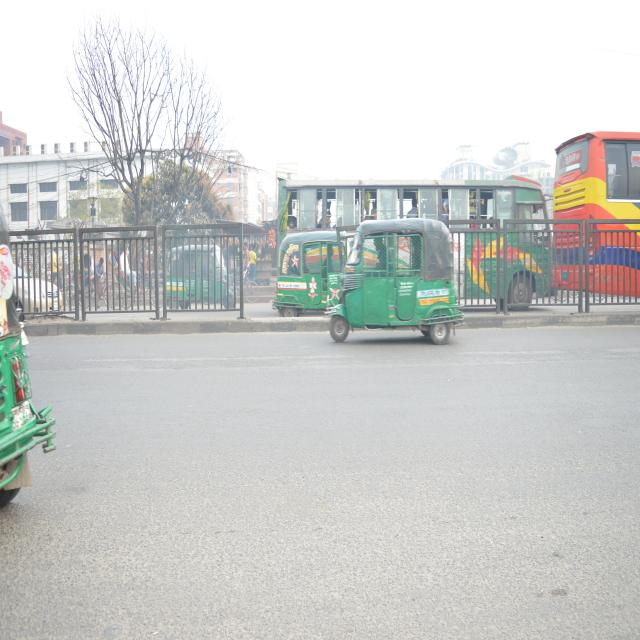bus: (276, 154, 554, 334), (550, 123, 640, 290)
